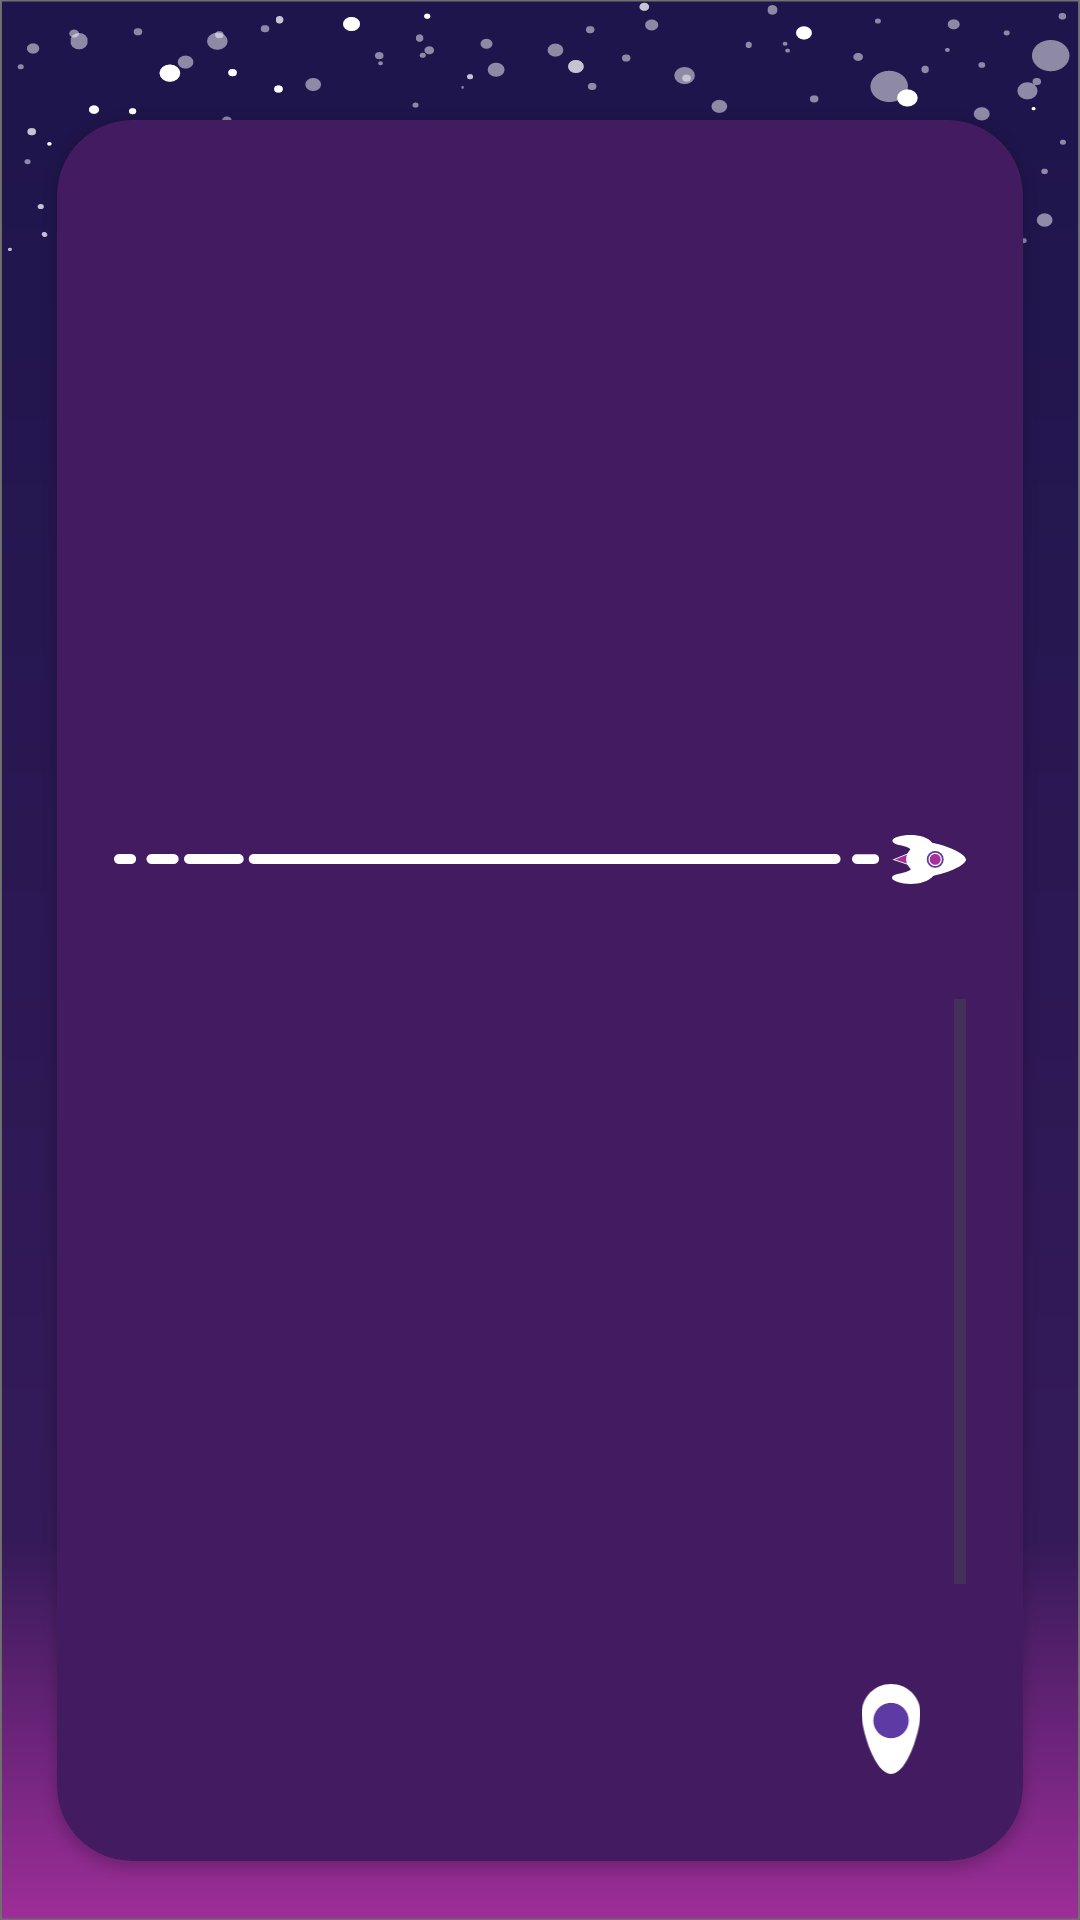

Icon click points for this 1080 x 1920 phone screenshot, format [x,y]:
location: [891,1729]
